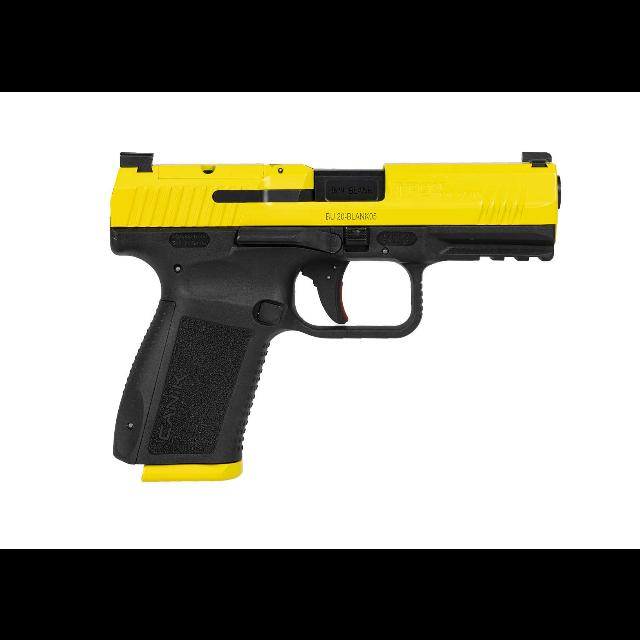handgun: (103, 142, 565, 486)
